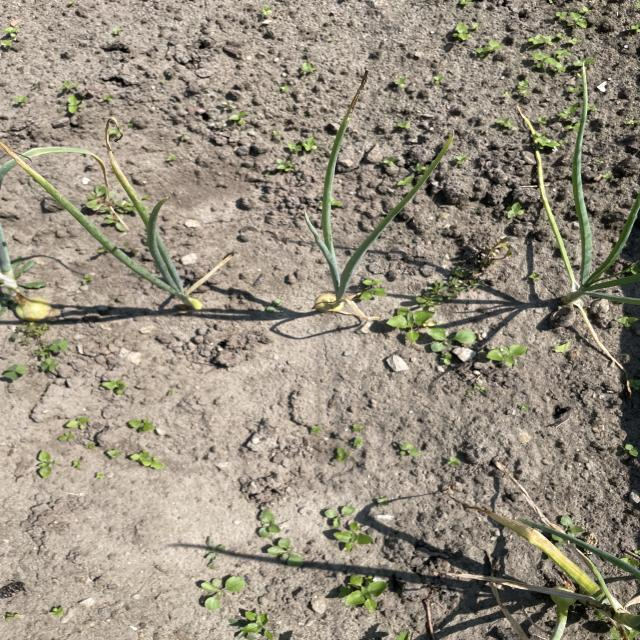Onion: (301, 144, 418, 318), (59, 171, 201, 310), (539, 146, 640, 322), (523, 535, 640, 640), (0, 236, 56, 325)
weed: (38, 411, 161, 487), (448, 21, 599, 73), (2, 325, 72, 384), (249, 509, 311, 570), (321, 502, 383, 552), (192, 570, 250, 613), (420, 318, 485, 356), (381, 301, 441, 337), (338, 576, 391, 614), (488, 338, 533, 372), (239, 608, 274, 640), (98, 376, 138, 396)
